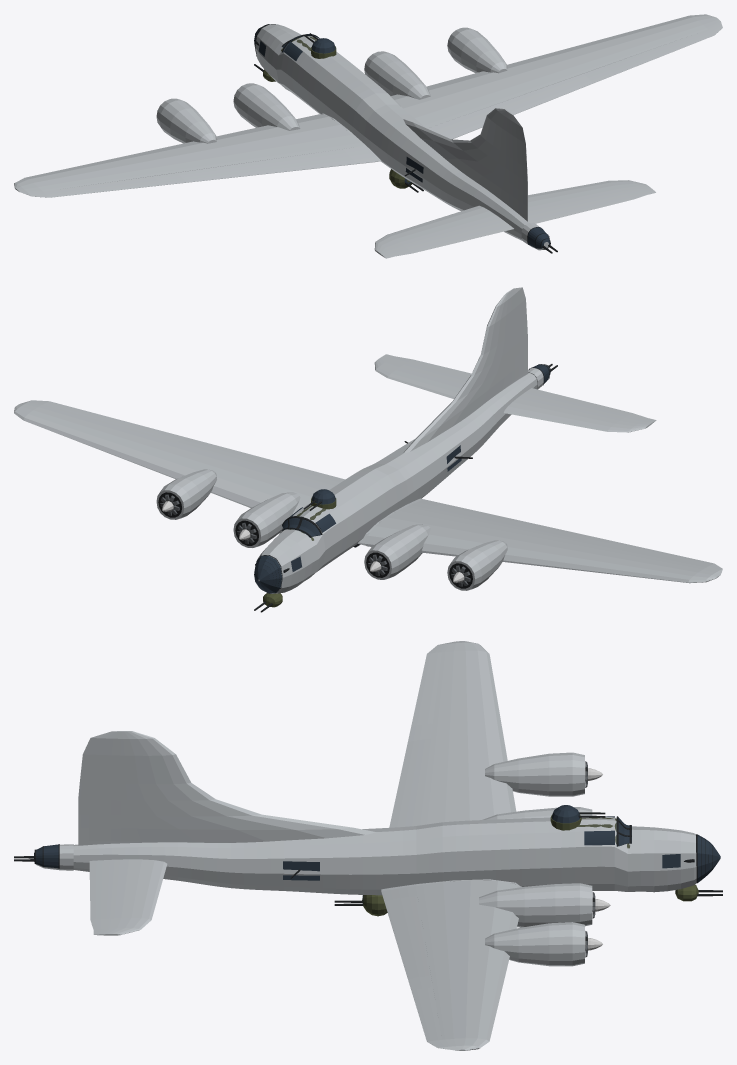
3 renders of one model, top to bottom at view 1: azimuth 30°, elevation 25°; view 2: azimuth 150°, elevation 25°; view 3: azimuth 270°, elevation 25°, orthographic. The views are drawn at different scales.
Visible parts, largest first — view 1: Fuselage, Wing L, Wing R, Nacelles, Vertical Fin, Flap L, Flap R, Stabilizer L, Stabilizer R, Rudder, Elevator L, Elevator R (+3 smaller); view 2: Fuselage, Wing L, Wing R, Nacelles, Vertical Fin, Stabilizer L, Stabilizer R, Rudder, Flap R, Flap L, Elevator L, Cowl Face (+6 smaller); view 3: Fuselage, Wing R, Wing L, Vertical Fin, Nacelles, Rudder, Stabilizer R, Flap R, Flap L, Elevator R, Aileron L, Aileron R (+4 smaller).
Boxes of the visible parts, x1,y1,x2,y2 form: Fuselage: [255, 24, 532, 240]; Wing L: [14, 113, 381, 197]; Wing R: [391, 14, 722, 129]; Nacelles: [156, 27, 507, 143]; Vertical Fin: [403, 108, 509, 205]; Flap L: [177, 149, 356, 182]; Flap R: [429, 73, 592, 139]; Stabilizer L: [374, 205, 501, 255]; Stabilizer R: [528, 180, 652, 212]; Rudder: [508, 112, 527, 221]; Elevator L: [382, 219, 513, 258]; Elevator R: [528, 189, 655, 223]; Fuselage: [257, 373, 537, 593]; Wing L: [358, 498, 722, 583]; Wing R: [14, 400, 334, 514]; Nacelles: [156, 469, 507, 590]; Vertical Fin: [403, 291, 511, 453]; Stabilizer L: [504, 395, 652, 432]; Stabilizer R: [374, 356, 466, 398]; Rudder: [510, 287, 527, 384]; Flap R: [177, 437, 345, 485]; Flap L: [429, 503, 592, 540]; Elevator L: [522, 388, 656, 422]; Cowl Face: [158, 492, 472, 588]; Fuselage: [73, 816, 696, 895]; Wing R: [381, 879, 521, 1050]; Wing L: [408, 641, 516, 825]; Vertical Fin: [121, 731, 375, 843]; Nacelles: [479, 752, 592, 966]; Rudder: [78, 731, 120, 845]; Stabilizer R: [103, 859, 167, 935]; Flap R: [384, 895, 430, 978]; Flap L: [389, 738, 430, 827]; Elevator R: [89, 859, 115, 935]; Aileron L: [411, 651, 442, 726]; Aileron R: [411, 987, 442, 1042].
Size of the model in its own units: 31.62 by 6.62 by 23.18.
